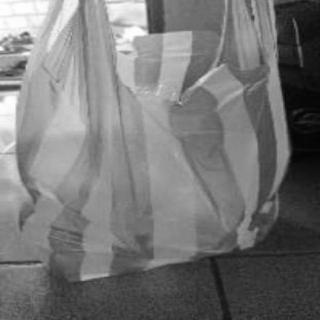objects: (18, 0, 292, 279)
